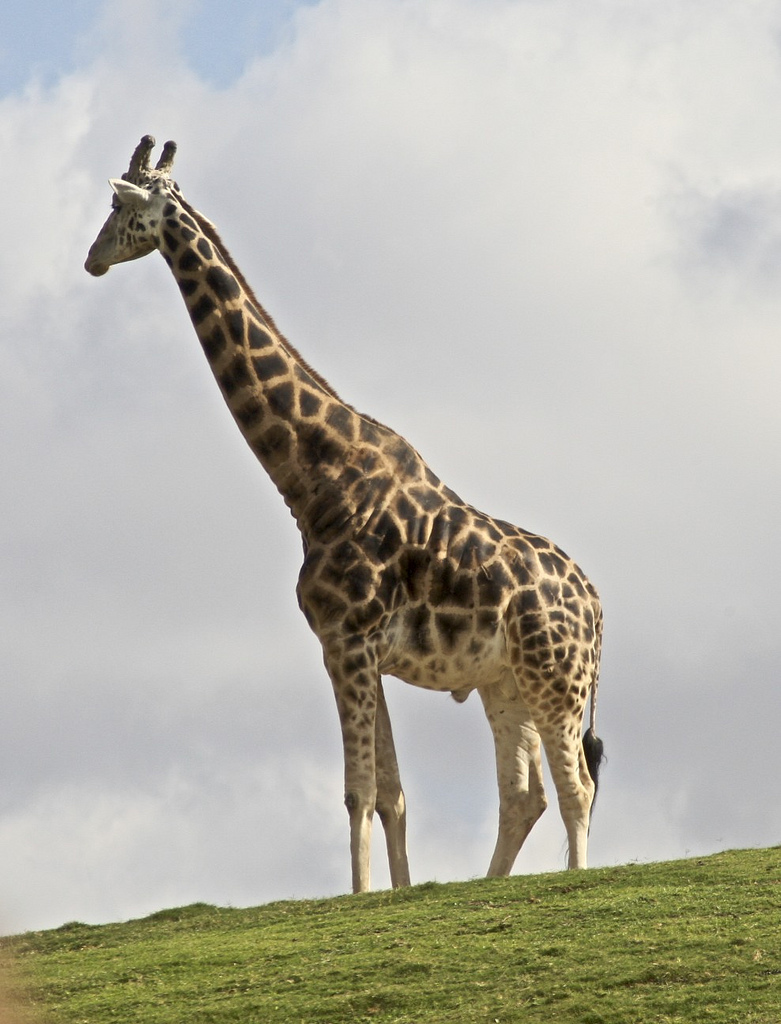giraffe: (85, 134, 668, 884)
